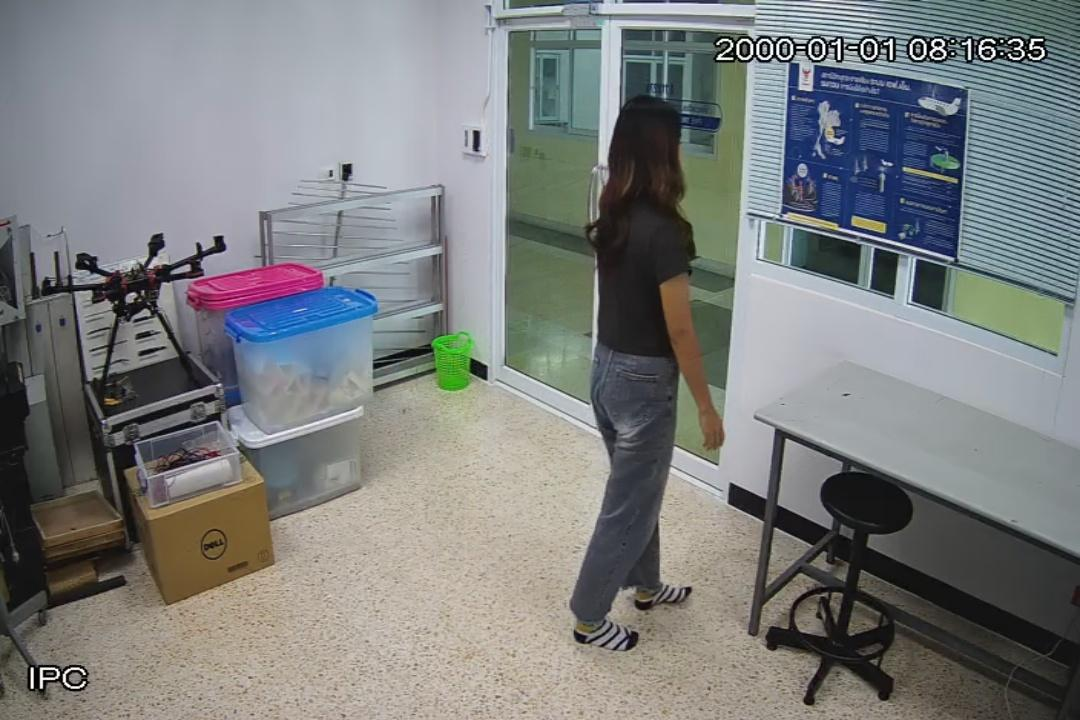normal: (567, 93, 724, 652)
